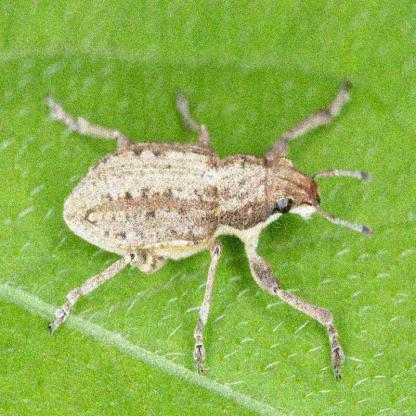ash weevil: (50, 79, 374, 378)
